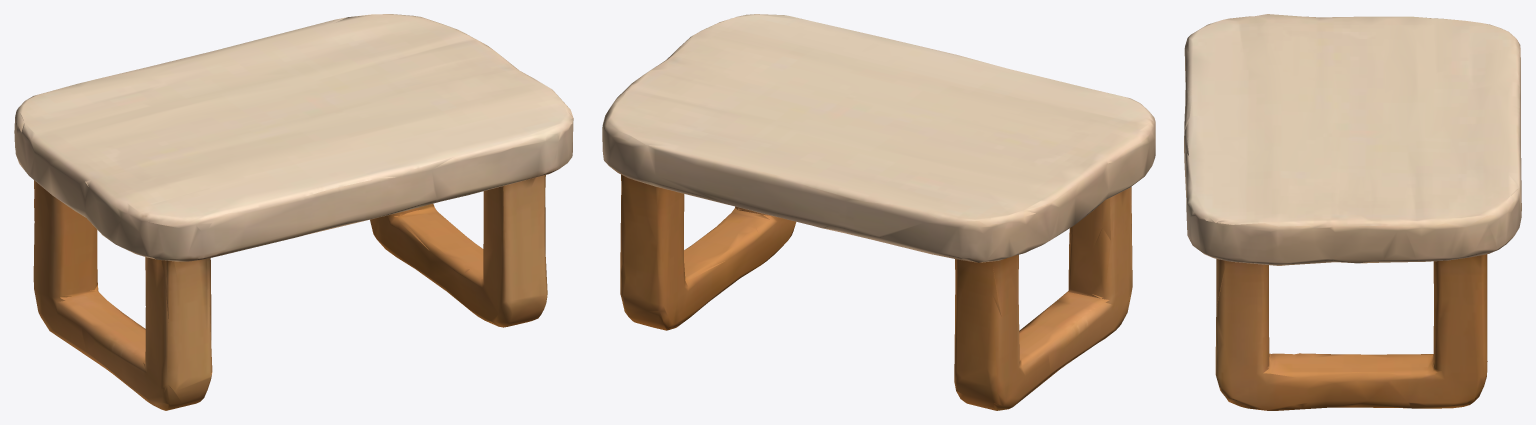
File: table05.glb
3 renders of one model, left to right at view 1: azimuth 30°, elevation 25°; view 2: azimuth 150°, elevation 25°; view 3: azimuth 270°, elevation 25°, orthographic. The views are drawn at different scales.
Bounding box in the file's own units: 0.2337 × 0.1065 × 0.1567.
1 material, 1 textured.
